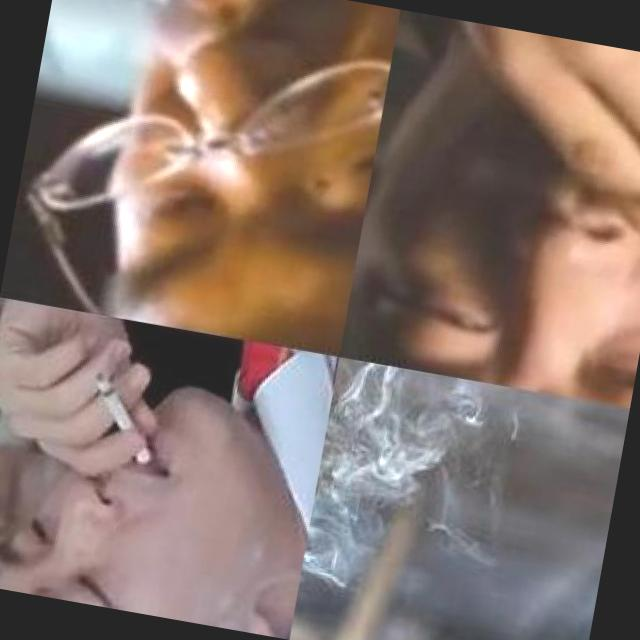cigarette: (82, 372, 166, 468)
